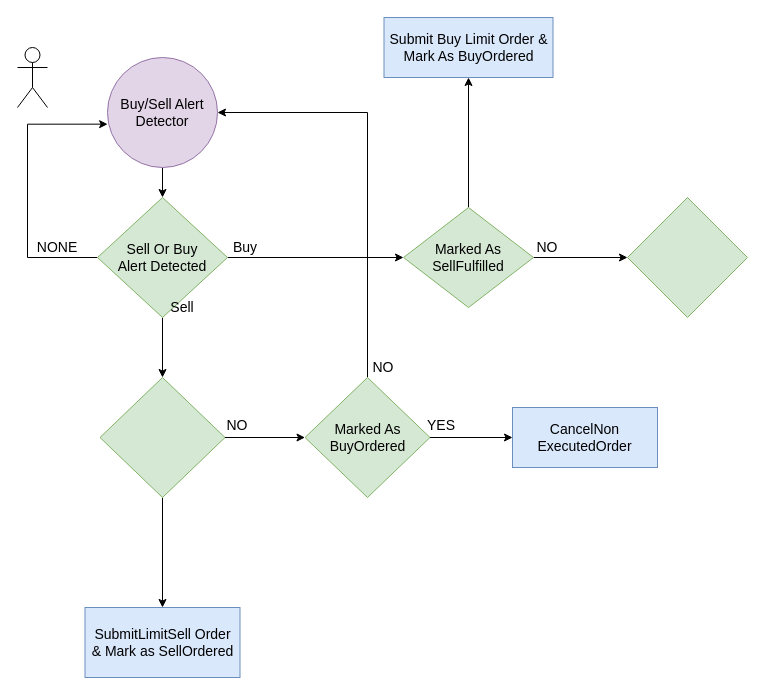
The diagram is 765 pixels wide and 695 high, and some of its shapes have lost their labels. Each missing label, with the centre of its shape:
Actor: point (32, 77)
Marked As BuyFulfilled?: point (162, 437)
Marked As Sell Ordered: point (687, 257)
